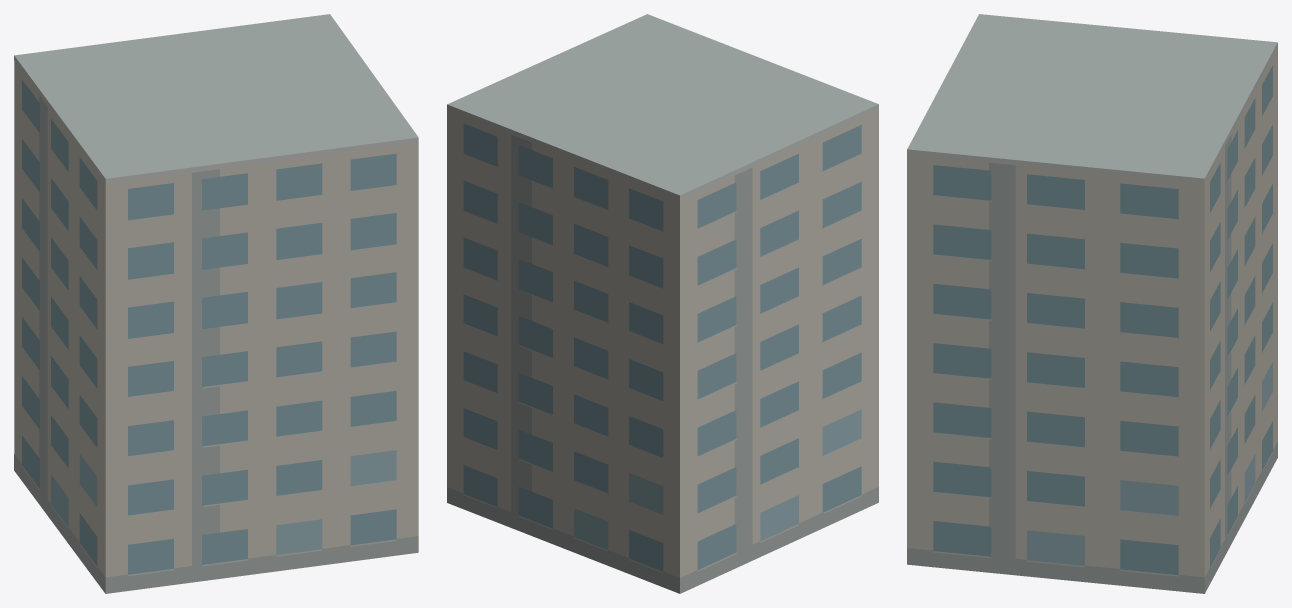
Rendered from survey-upis-32527677.glb.
The picture shows the model from 3 angles, left to right: view 1: azimuth 30°, elevation 25°; view 2: azimuth 150°, elevation 25°; view 3: azimuth 270°, elevation 25°; orthographic projection. The views are drawn at different scales.
Visible parts, largest first — view 1: survey-upis-32527677.tmp; view 2: survey-upis-32527677.tmp; view 3: survey-upis-32527677.tmp.
Boxes of the visible parts, bbox=[...] form: survey-upis-32527677.tmp: bbox=[14, 14, 418, 593]; survey-upis-32527677.tmp: bbox=[447, 14, 878, 593]; survey-upis-32527677.tmp: bbox=[907, 14, 1277, 593].
Size of the model in its own units: 15.99 by 18.8 by 15.22.
